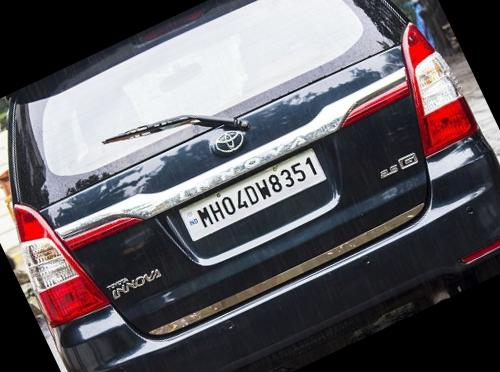plate: (157, 125, 351, 261)
